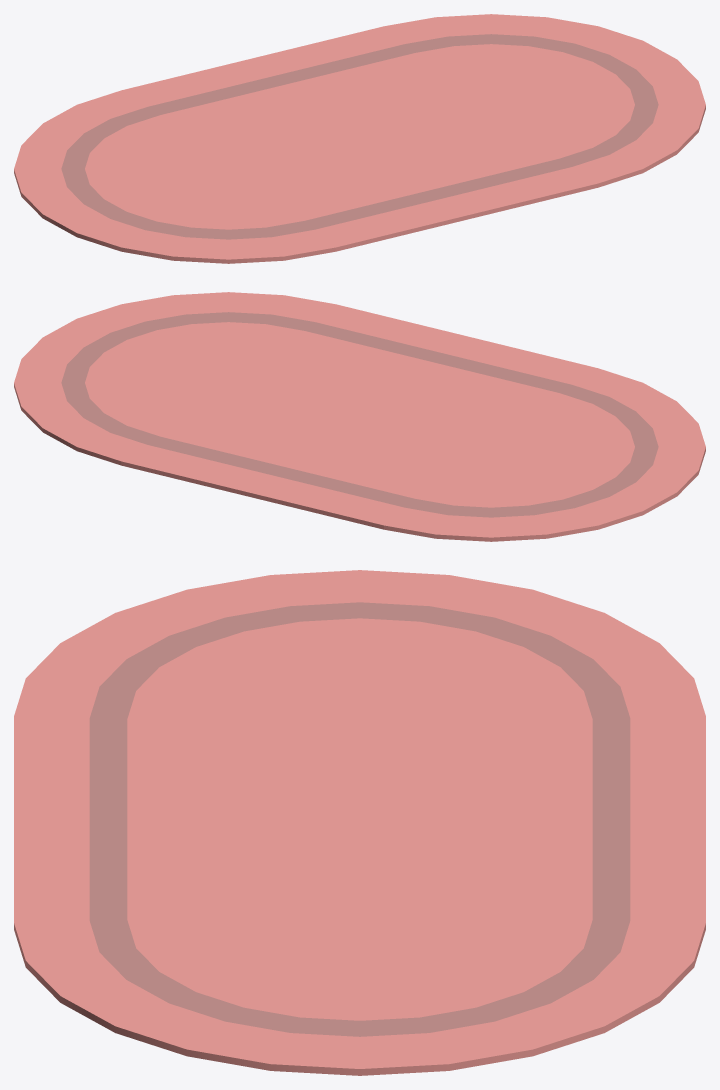
File: rug.glb
3 renders of one model, top to bottom at view 1: azimuth 30°, elevation 25°; view 2: azimuth 150°, elevation 25°; view 3: azimuth 270°, elevation 25°, orthographic. The views are drawn at different scales.
Visible parts, largest first — view 1: rugRounded(Clone); view 2: rugRounded(Clone); view 3: rugRounded(Clone).
Boxes of the visible parts, x1=… form: rugRounded(Clone): x1=14, y1=14, x2=705, y2=263; rugRounded(Clone): x1=14, y1=292, x2=705, y2=541; rugRounded(Clone): x1=14, y1=570, x2=705, y2=1075.
Size of the model in its own units: 1.57 by 0.01 by 0.92.
